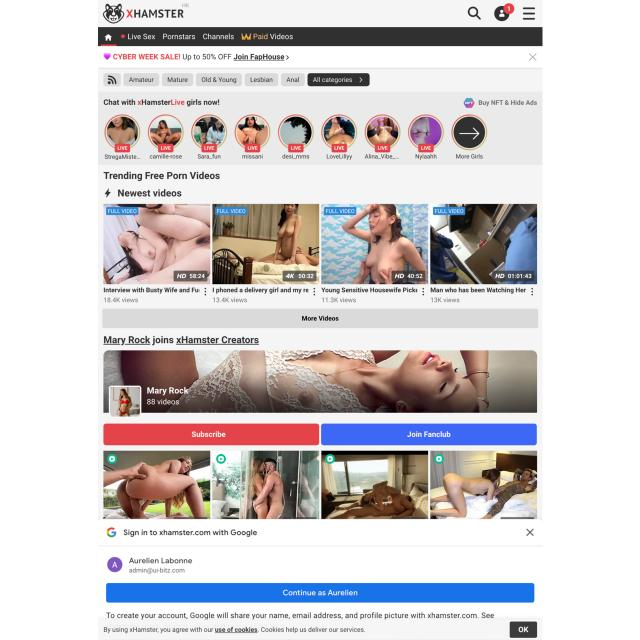logo: (101, 2, 196, 25)
navigation: (101, 32, 298, 47), (521, 5, 537, 22)
